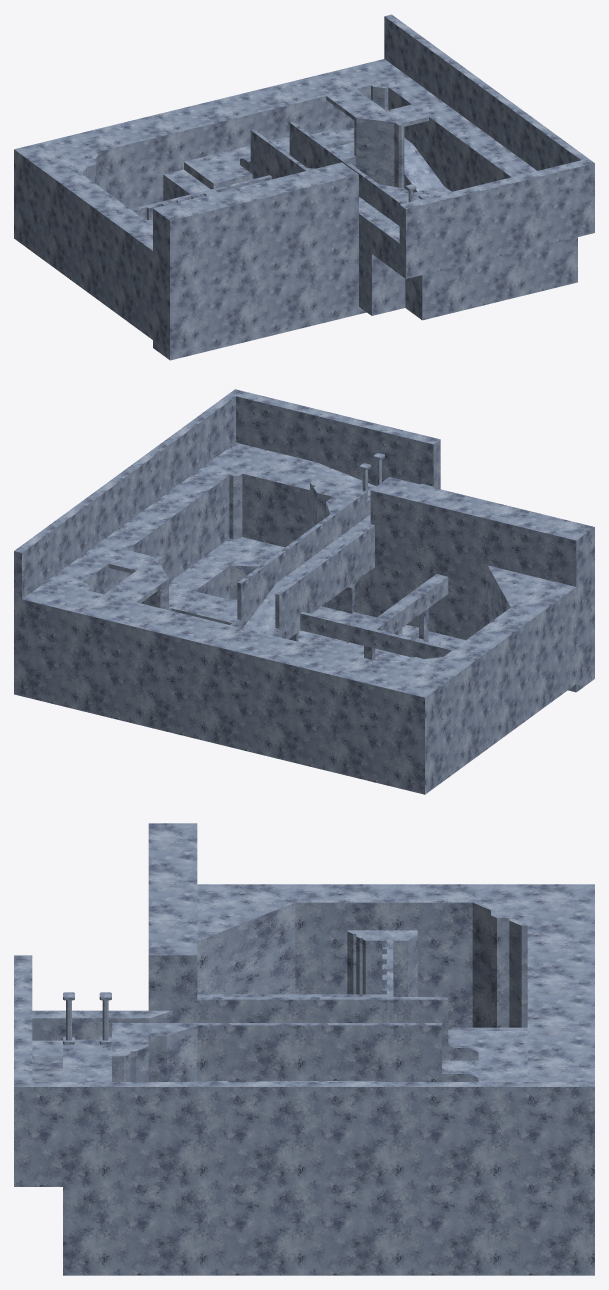
3 views of the same model, one above another, from view 1: azimuth 30°, elevation 25°; view 2: azimuth 150°, elevation 25°; view 3: azimuth 270°, elevation 25° (orthographic). The views are drawn at different scales.
Parts seen in each view (by area): view 1: entity0_brush32, entity0_brush7, entity0_brush5, entity0_brush98, entity0_brush30, entity0_brush99, entity0_brush8, entity0_brush31, entity0_brush97, entity0_brush6, entity0_brush44, entity0_brush56 (+16 smaller); view 2: entity0_brush7, entity0_brush32, entity0_brush5, entity0_brush99, entity0_brush98, entity0_brush8, entity0_brush6, entity0_brush30, entity0_brush31, entity0_brush84, entity0_brush83, entity0_brush47 (+19 smaller); view 3: entity0_brush8, entity0_brush99, entity0_brush7, entity0_brush5, entity0_brush83, entity0_brush33, entity0_brush30, entity0_brush84, entity0_brush32, entity0_brush98, entity0_brush56, entity0_brush6 (+15 smaller).
Part boxes in pixels (<box>): entity0_brush32: <box>153,177,295,360</box>; entity0_brush7: <box>40,59,407,208</box>; entity0_brush5: <box>59,176,152,339</box>; entity0_brush98: <box>399,158,594,251</box>; entity0_brush30: <box>279,162,358,321</box>; entity0_brush99: <box>384,14,588,170</box>; entity0_brush8: <box>382,76,577,290</box>; entity0_brush31: <box>405,245,544,320</box>; entity0_brush97: <box>399,206,594,278</box>; entity0_brush6: <box>14,143,84,270</box>; entity0_brush44: <box>356,112,394,186</box>; entity0_brush56: <box>184,138,289,189</box>; entity0_brush7: <box>14,580,421,787</box>; entity0_brush32: <box>439,493,594,692</box>; entity0_brush5: <box>446,580,576,758</box>; entity0_brush99: <box>14,394,235,599</box>; entity0_brush98: <box>228,389,440,488</box>; entity0_brush8: <box>48,451,252,594</box>; entity0_brush6: <box>397,655,473,794</box>; entity0_brush30: <box>370,477,457,633</box>; entity0_brush31: <box>234,458,373,547</box>; entity0_brush84: <box>299,524,374,613</box>; entity0_brush83: <box>237,514,334,625</box>; entity0_brush47: <box>300,612,453,658</box>; entity0_brush8: <box>63,1148,527,1275</box>; entity0_brush99: <box>32,1082,594,1147</box>; entity0_brush7: <box>527,902,594,1275</box>; entity0_brush5: <box>197,884,466,1029</box>; entity0_brush83: <box>197,1023,441,1080</box>; entity0_brush33: <box>197,902,295,994</box>; entity0_brush30: <box>148,911,197,1022</box>; entity0_brush84: <box>197,997,386,1022</box>; entity0_brush32: <box>148,823,197,911</box>; entity0_brush98: <box>14,955,32,1147</box>; entity0_brush56: <box>442,1031,527,1081</box>; entity0_brush6: <box>466,884,594,1027</box>.
Bounding box in the file's own units: 1632 × 576 × 1520.
1 material, 1 textured.
